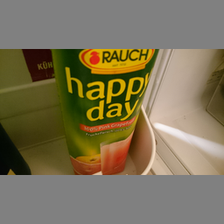juice: (51, 49, 159, 175)
